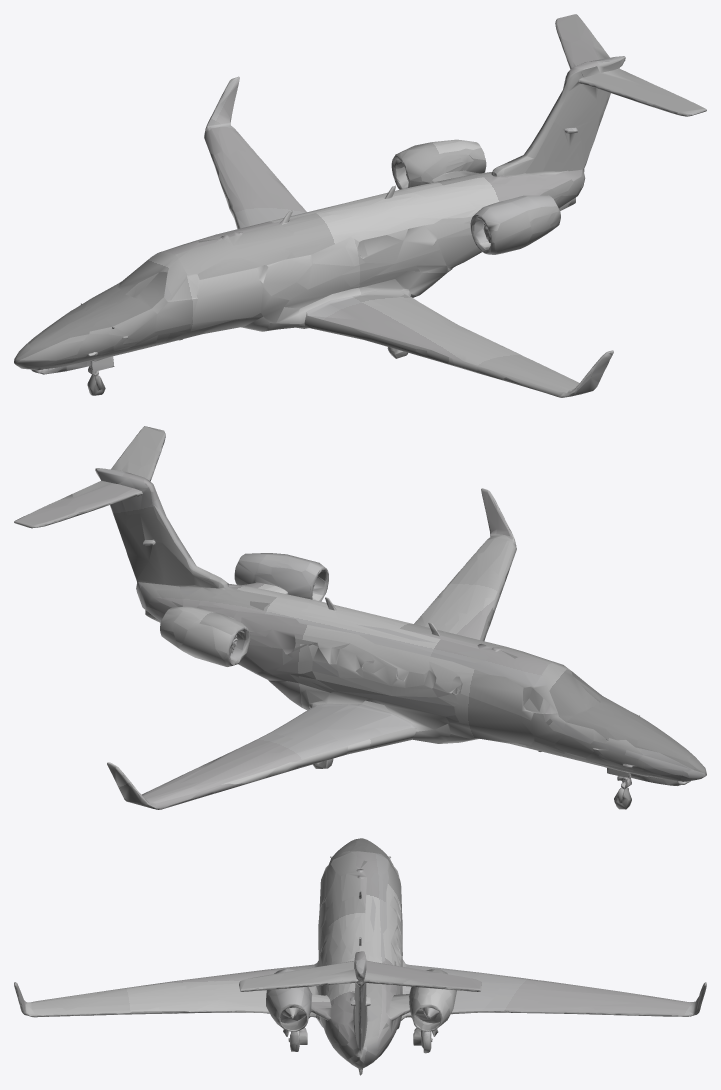
The model's file is jet_light.glb.
The picture shows the model from 3 angles, top to bottom: view 1: azimuth 30°, elevation 25°; view 2: azimuth 150°, elevation 25°; view 3: azimuth 270°, elevation 25°; orthographic projection. The views are drawn at different scales.
Parts seen in each view (by area): view 1: LO; view 2: LO; view 3: LO.
Part boxes in pixels (box(x1,y1,x2,y2)): LO: box(14, 14, 706, 397); LO: box(14, 426, 706, 809); LO: box(14, 838, 706, 1075).
Size of the model in its own units: 15.6 by 5.08 by 16.17.
Materials: 1 (1 with a texture image).
